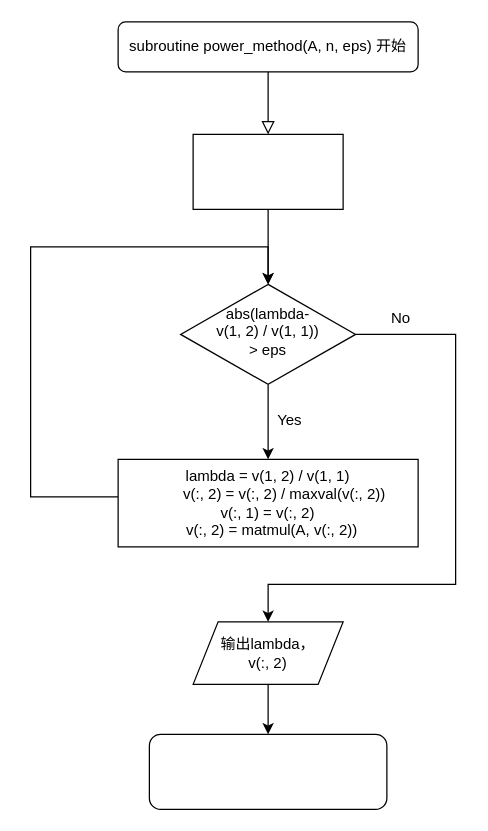
Some shapes in this 488 by 831 pixel diagram are drawn without their labels. The box of each missing label's shape, as (x1, y1, x2, y2) in pixels:
subroutine power_method 结束: (148, 733, 387, 809)
声明并初始化A，v，eps: (192, 133, 343, 209)
